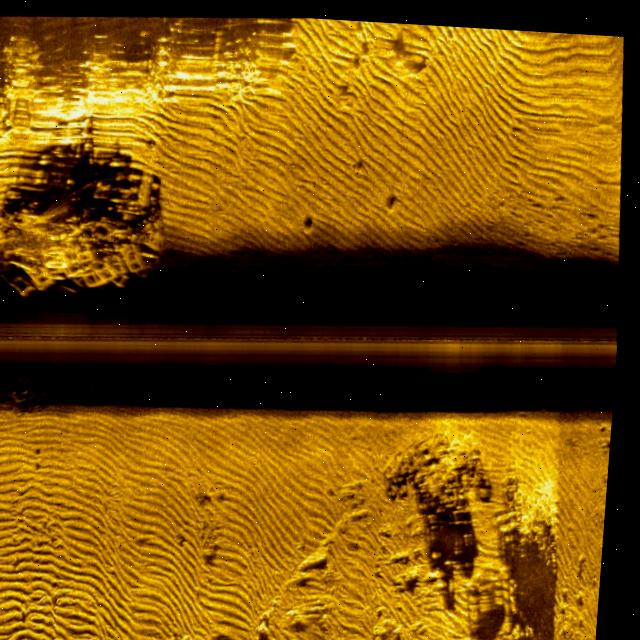artificial reef: (9, 169, 175, 296)
